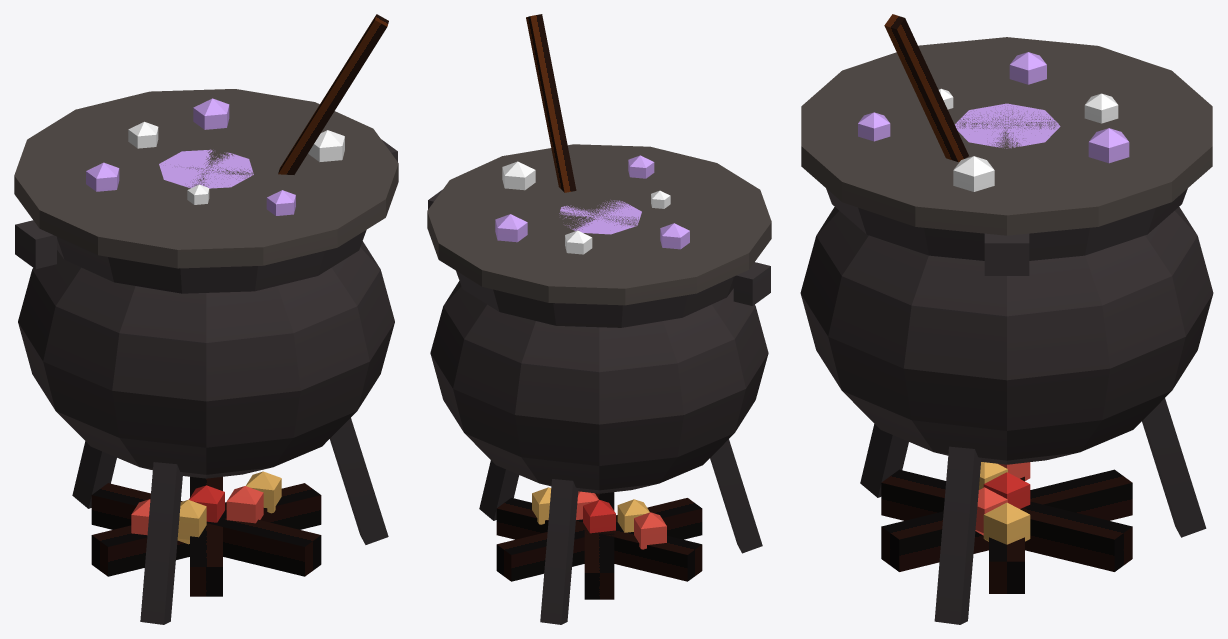
Rendered from cauldron_violet.glb.
3 views of the same model, side by side, from view 1: azimuth 30°, elevation 25°; view 2: azimuth 150°, elevation 25°; view 3: azimuth 270°, elevation 25° (orthographic). The views are drawn at different scales.
Parts seen in each view (by area): view 1: cauldron_violet; view 2: cauldron_violet; view 3: cauldron_violet.
Boxes of the visible parts, x1,y1,x2,y2 form: cauldron_violet: [14, 14, 398, 624]; cauldron_violet: [427, 14, 771, 624]; cauldron_violet: [800, 14, 1213, 624].
Bounding box in the file's own units: 1.02 × 1.47 × 0.92.
3 materials, 1 textured.
